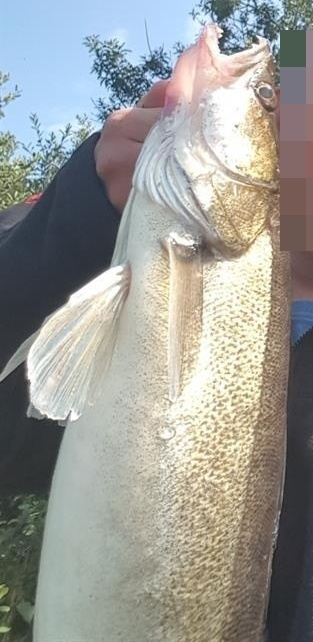Sander lucioperca: (1, 20, 293, 642)
